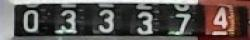digits: (136, 11, 154, 35), (22, 8, 40, 32), (61, 9, 78, 34), (212, 6, 229, 30), (97, 8, 114, 32), (173, 13, 191, 35)
